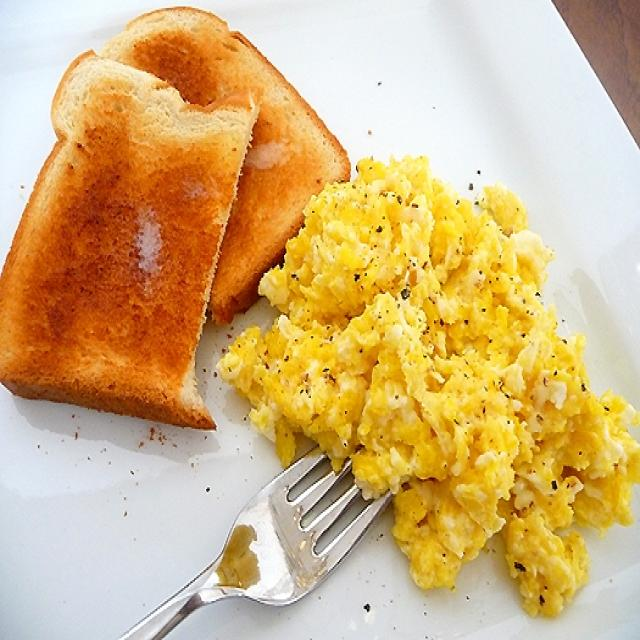鸡蛋料理: (20, 31, 629, 617)
